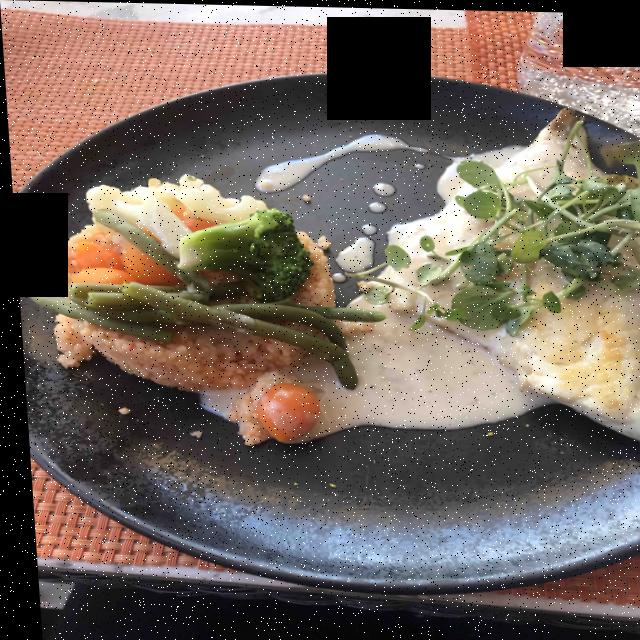mixed-vegetables: (15, 172, 367, 431)
sauce-cream: (207, 134, 558, 442)
shoots: (322, 160, 636, 377)
